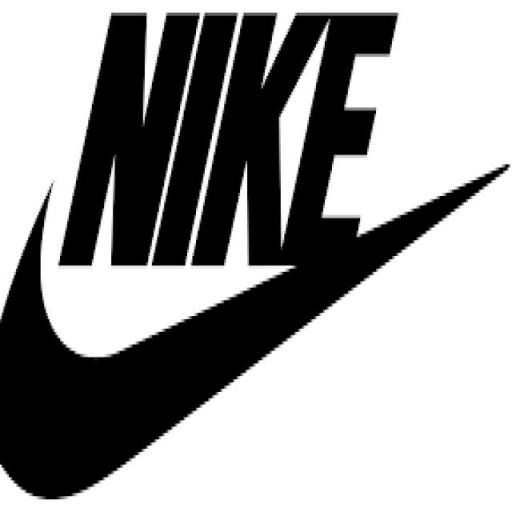Nike: (0, 189, 462, 499), (56, 6, 399, 269)
